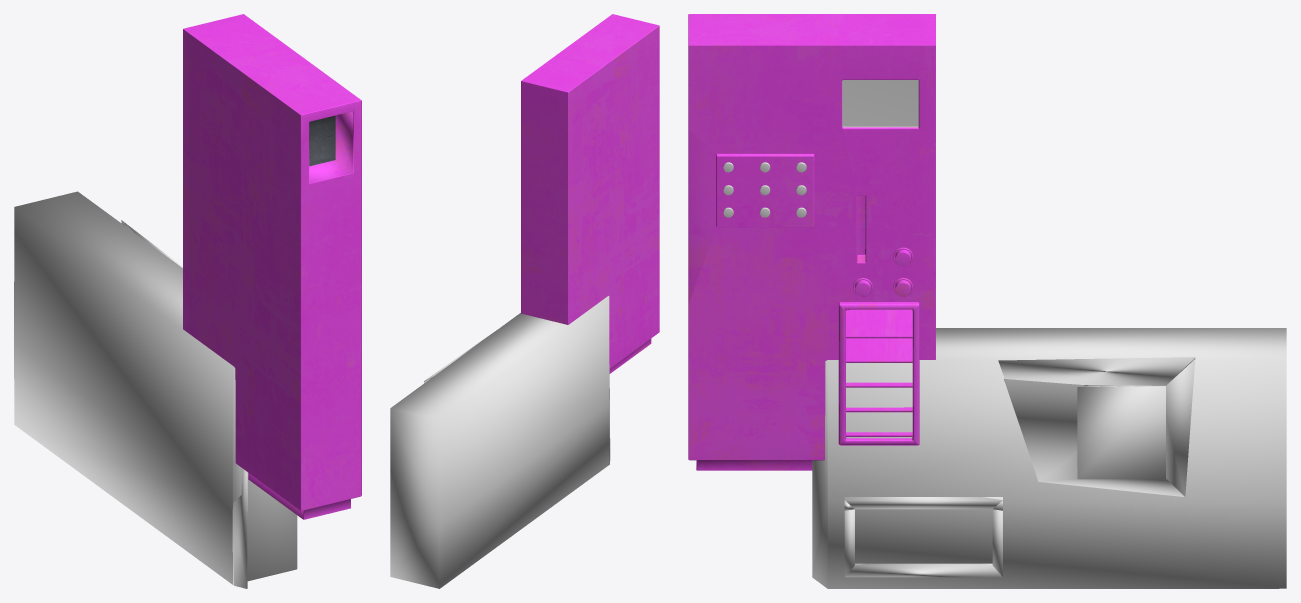
File: SM_ElectricalController.fbx
3 renders of one model, left to right at view 1: azimuth 30°, elevation 25°; view 2: azimuth 150°, elevation 25°; view 3: azimuth 270°, elevation 25°, orthographic. The views are drawn at different scales.
Visible parts, largest first — view 1: SM_ElectricalController, SM_ElectricalController_ConvexHulls; view 2: SM_ElectricalController_ConvexHulls, SM_ElectricalController; view 3: SM_ElectricalController_ConvexHulls, SM_ElectricalController.
Part boxes in pixels (x1,y1,x2,y2): SM_ElectricalController: [183, 14, 361, 519]; SM_ElectricalController_ConvexHulls: [14, 191, 297, 588]; SM_ElectricalController_ConvexHulls: [390, 296, 610, 588]; SM_ElectricalController: [521, 14, 659, 373]; SM_ElectricalController_ConvexHulls: [812, 328, 1286, 588]; SM_ElectricalController: [688, 14, 935, 470].
Bounding box in the file's own units: 0.3439 × 2.42 × 2.41.
